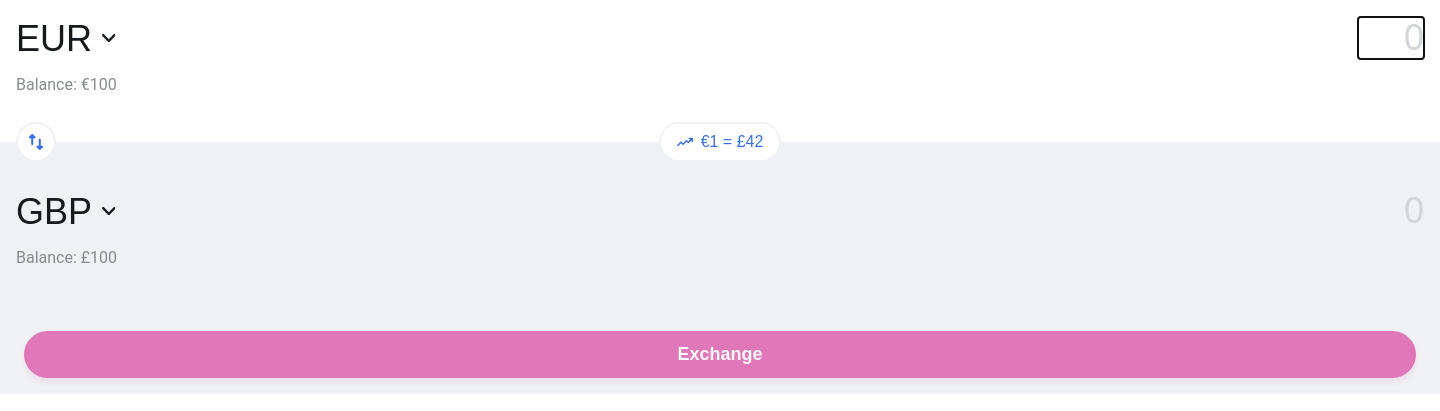
Test: <ExchangeWidget /> › should allow swapping currencies
Type "10" into the field named "Convert from amount" at (1391, 38), box 1358,17 -> 1424,59
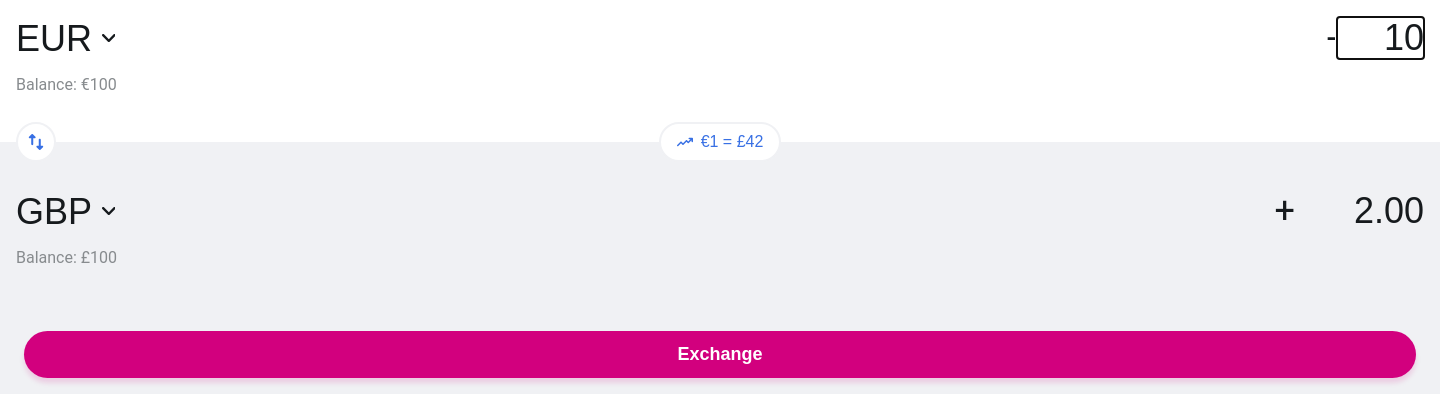
Click the button named "Swap currencies" at (36, 142), box 16,122 -> 56,162
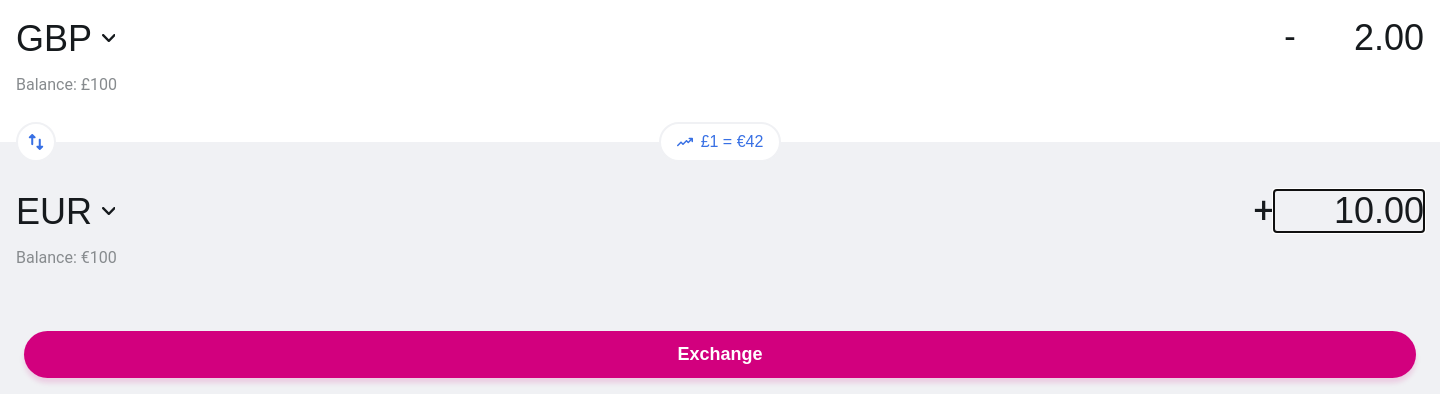
expect the dropdown named "Convert from currency" shows "GBP": met, box 16,18 -> 115,58
expect the field named "Convert from amount" holds "2.00": met, box 1295,17 -> 1424,59
expect the dropdown named "Convert to currency" shows "EUR": met, box 16,190 -> 115,232
